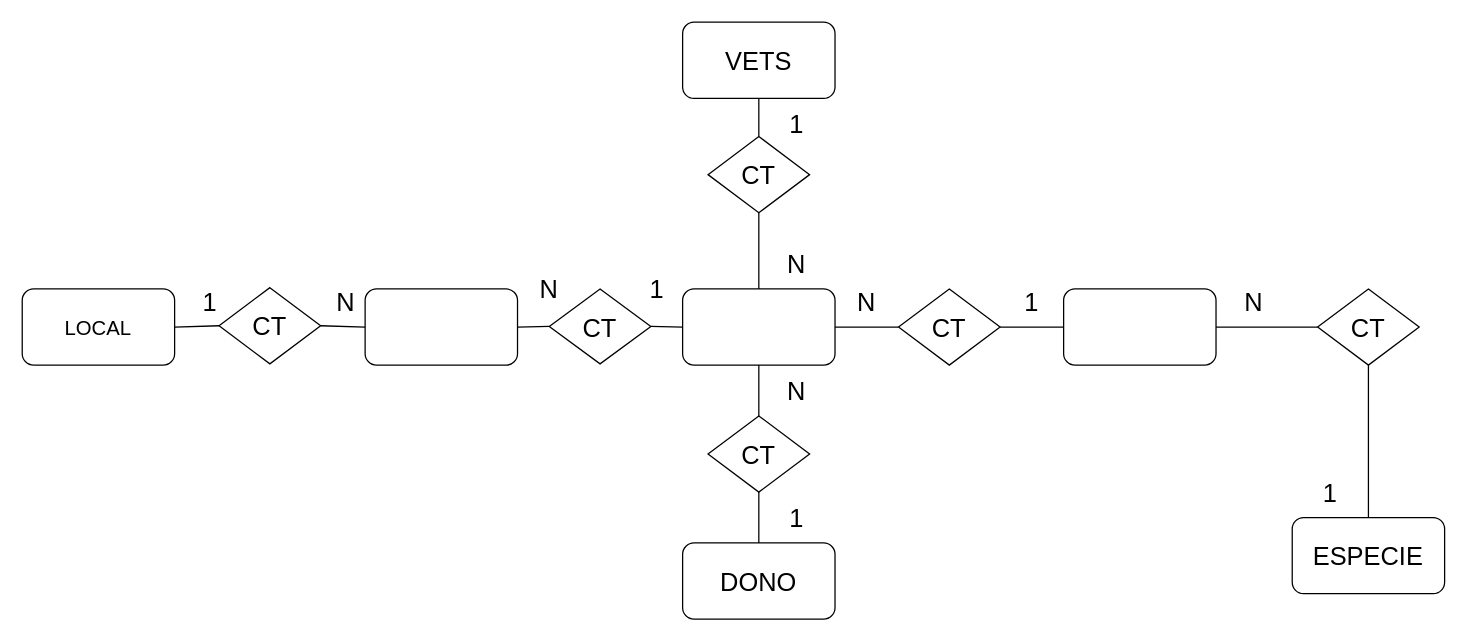
This 1467x641 diagram has some shape labels left out. The centre of each missing label's shape, as x and y in pixels:
"ATENDIMENTO" belongs at (441,326).
"PETS" belongs at (758,326).
"RACA" belongs at (1139,326).
